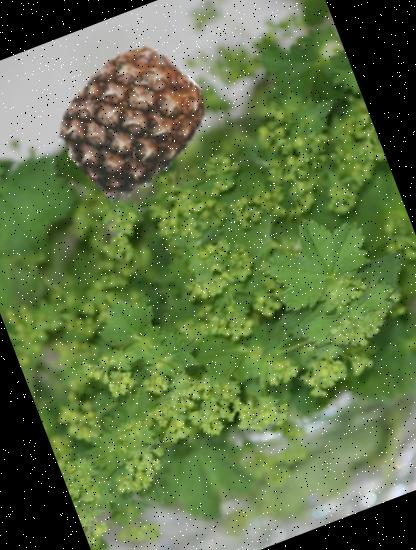Pineapple: (39, 27, 226, 213)
